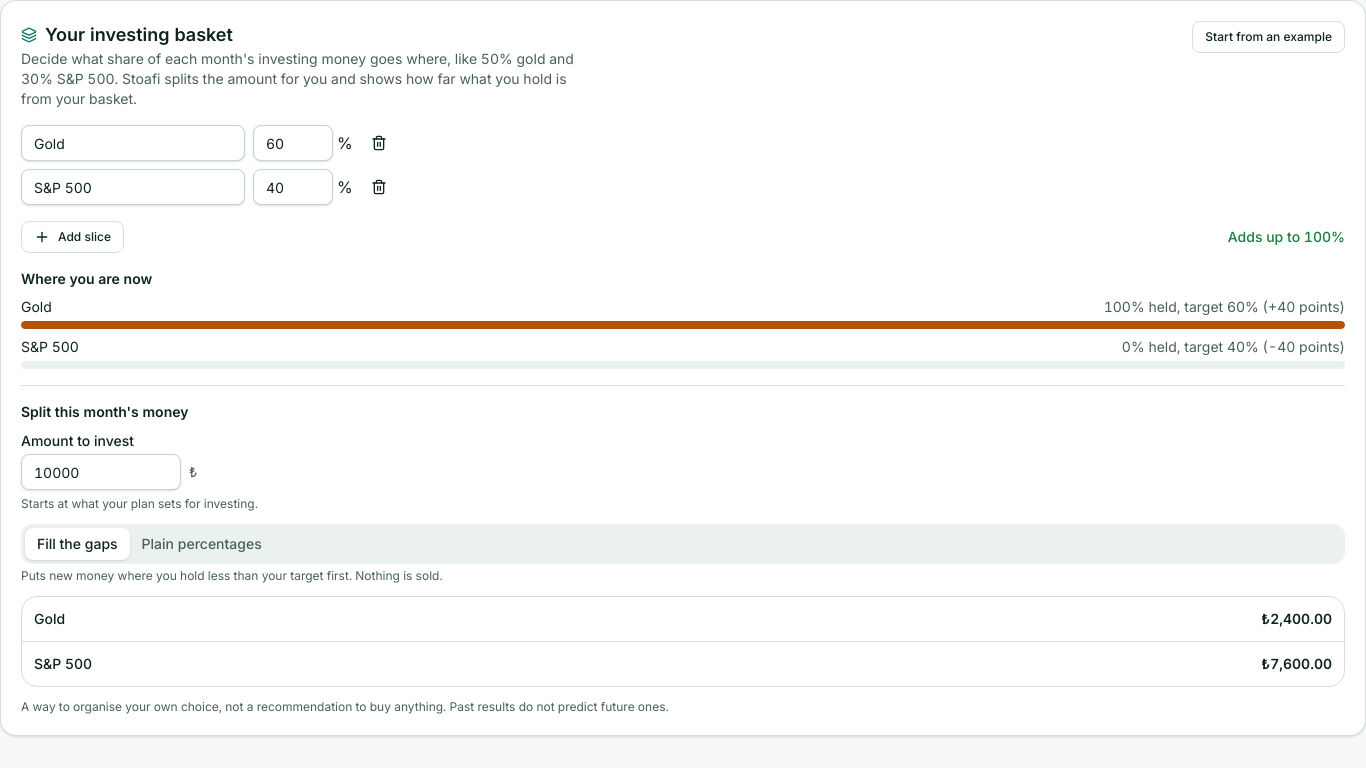
Test: BasketPanel › shows where the user is against the basket, and fills the gaps with new money
This screenshot has width=1366, height=768.
Check: the list item with test id "drift-gold" shows "100% held, target 60%", box top-left (1104, 298), bottom-right (1345, 315)
Check: the list item with test id "drift-sp" shows "0% held, target 40%", box top-left (1122, 338), bottom-right (1345, 355)
Click the radio button labelled "Plain percentages".
click(202, 544)  # box top-left (142, 535), bottom-right (262, 552)
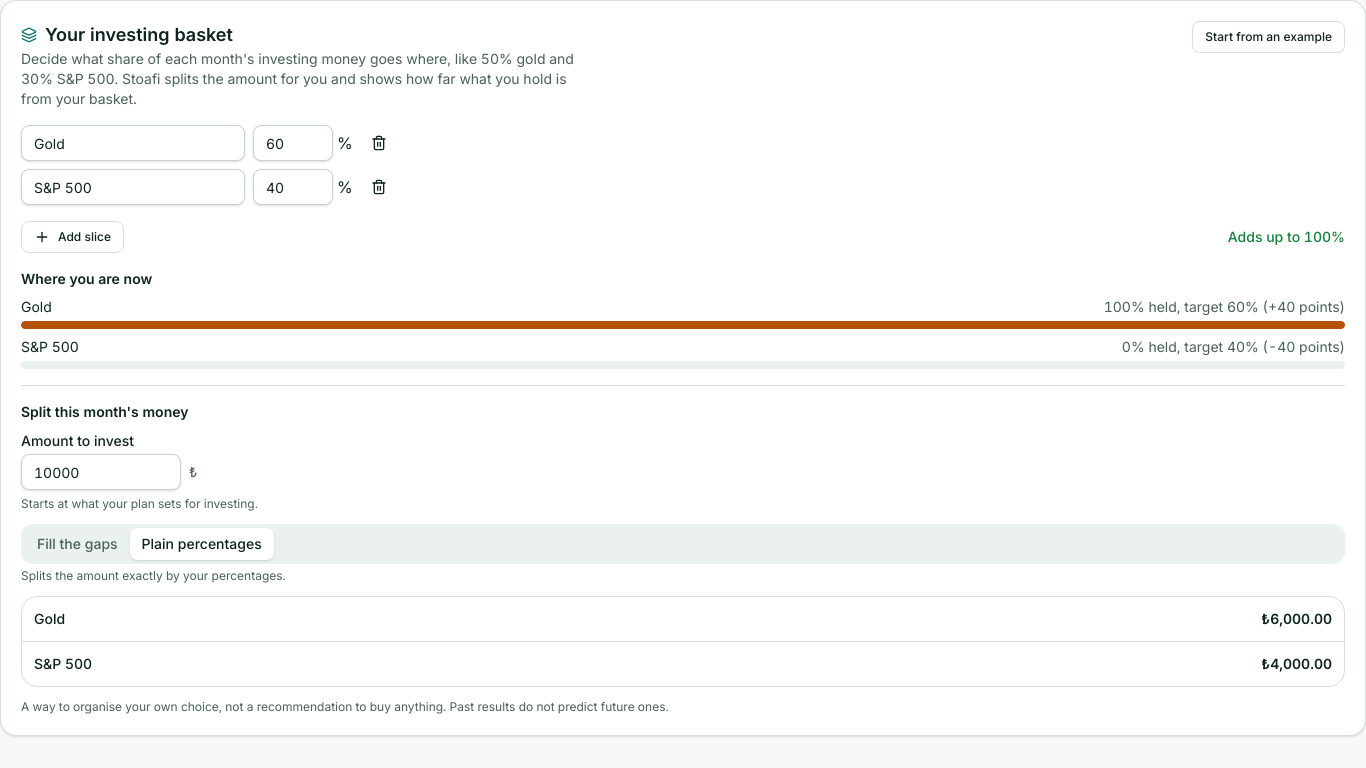
Check: the list item with test id "split-gold" shows "₺6,000.00", box top-left (1261, 610), bottom-right (1332, 627)
